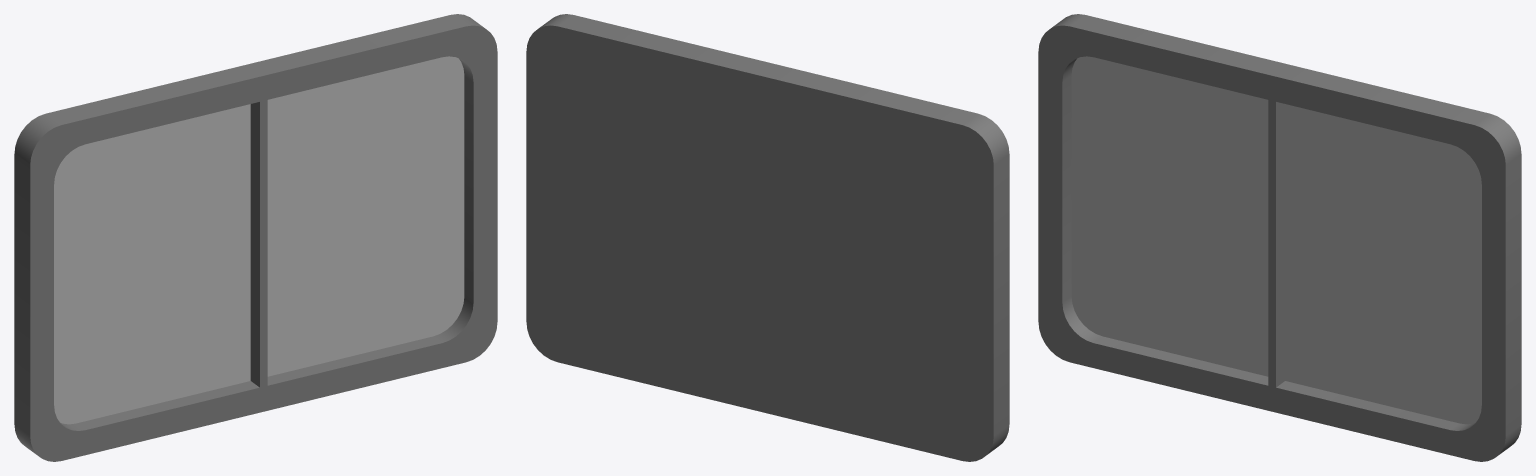
The model's file is Scoreboard A.fbx.
The picture shows the model from 3 angles, left to right: view 1: azimuth 30°, elevation 25°; view 2: azimuth 150°, elevation 25°; view 3: azimuth 330°, elevation 25°; orthographic projection.
Visible parts, largest first — view 1: Scoreboard A; view 2: Scoreboard A; view 3: Scoreboard A.
Boxes of the visible parts, bbox=[...] form: Scoreboard A: bbox=[14, 14, 497, 461]; Scoreboard A: bbox=[526, 14, 1009, 461]; Scoreboard A: bbox=[1038, 14, 1521, 461].
Size of the model in its own units: 531 by 364 by 30.86.
